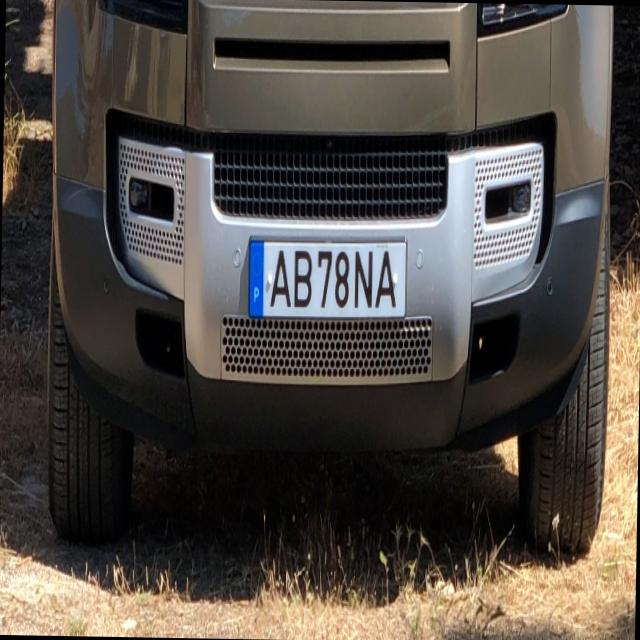portuguese-license-plates: (246, 234, 406, 324)
